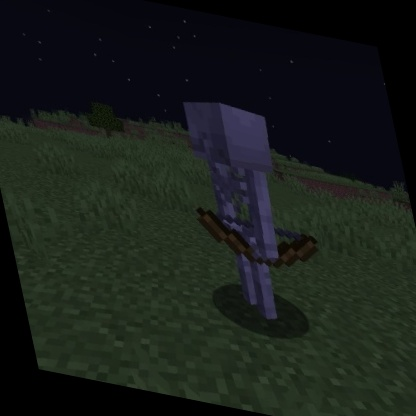skeleton: (165, 89, 340, 338)
